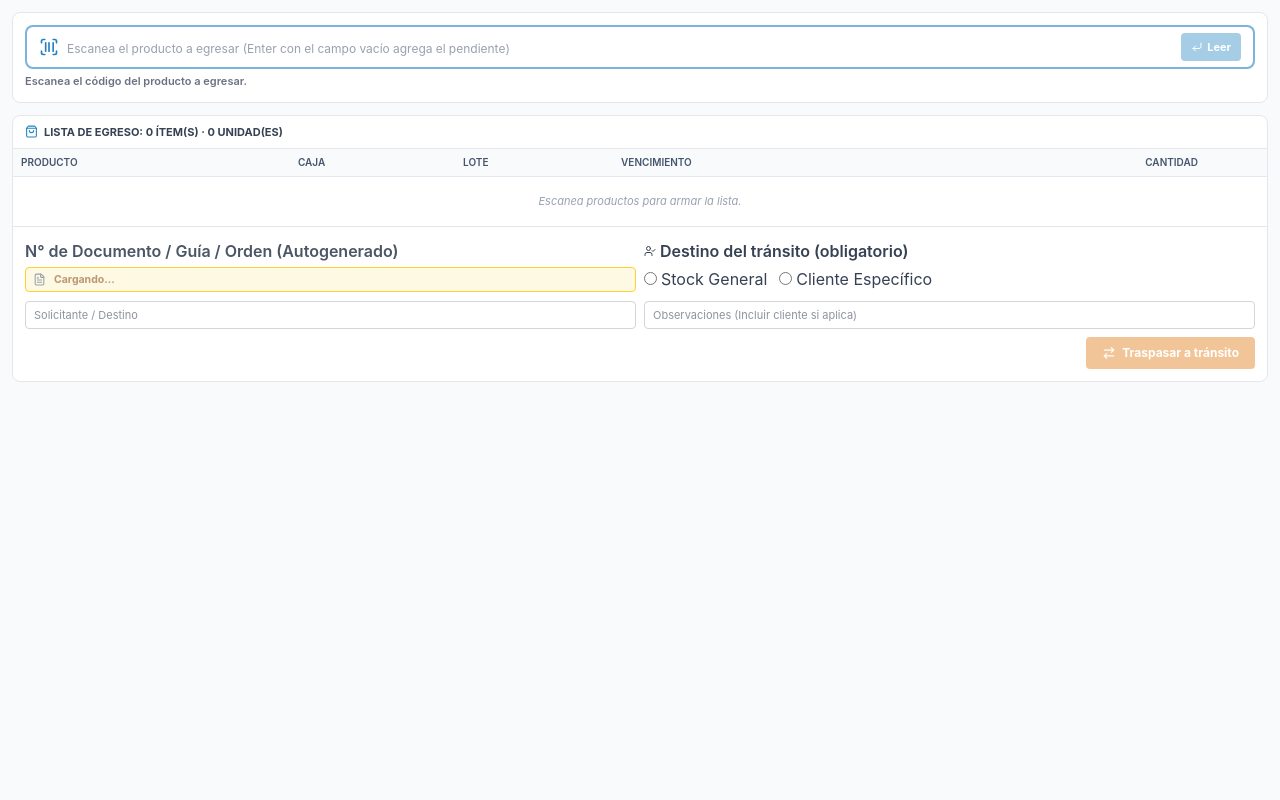
Test: EgresoPorEscaneo › GS1 con lote: preselecciona ese lote
Replace the text in the field named "Código de barras" with "(01)07612345678900(10)L2" at (620,47), box [67,27,1173,67]
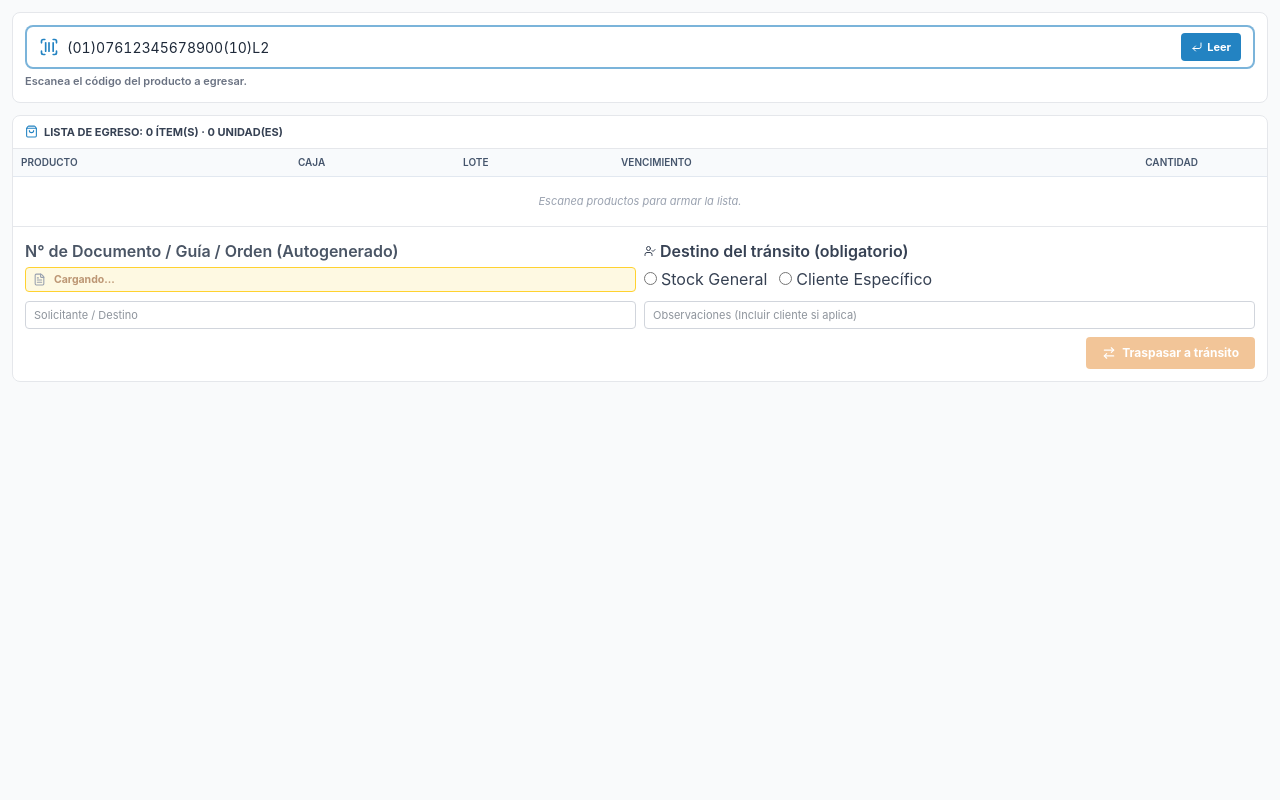
Press Enter in the field named "Código de barras", box [67,27,1173,67]
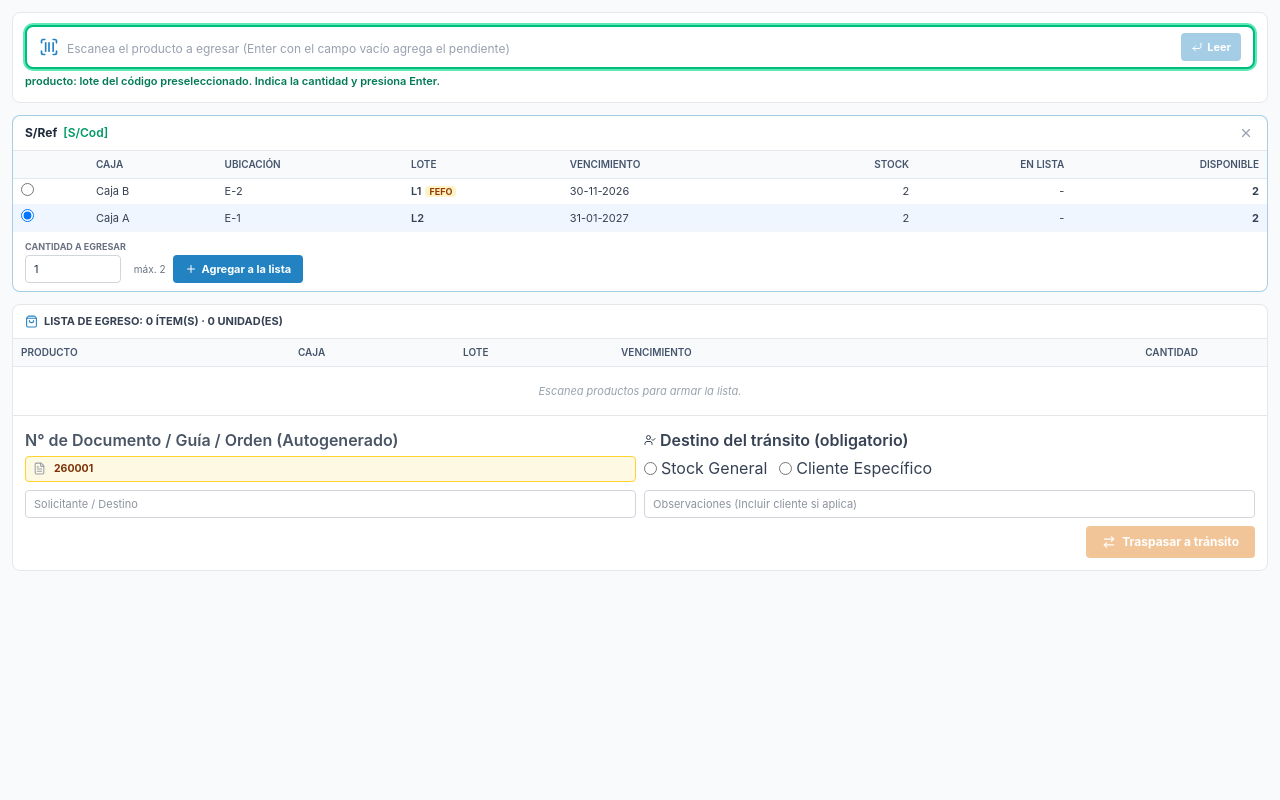
expect the radio button named "Lote L2 en Caja A" is checked: met, box [21,209,34,222]
